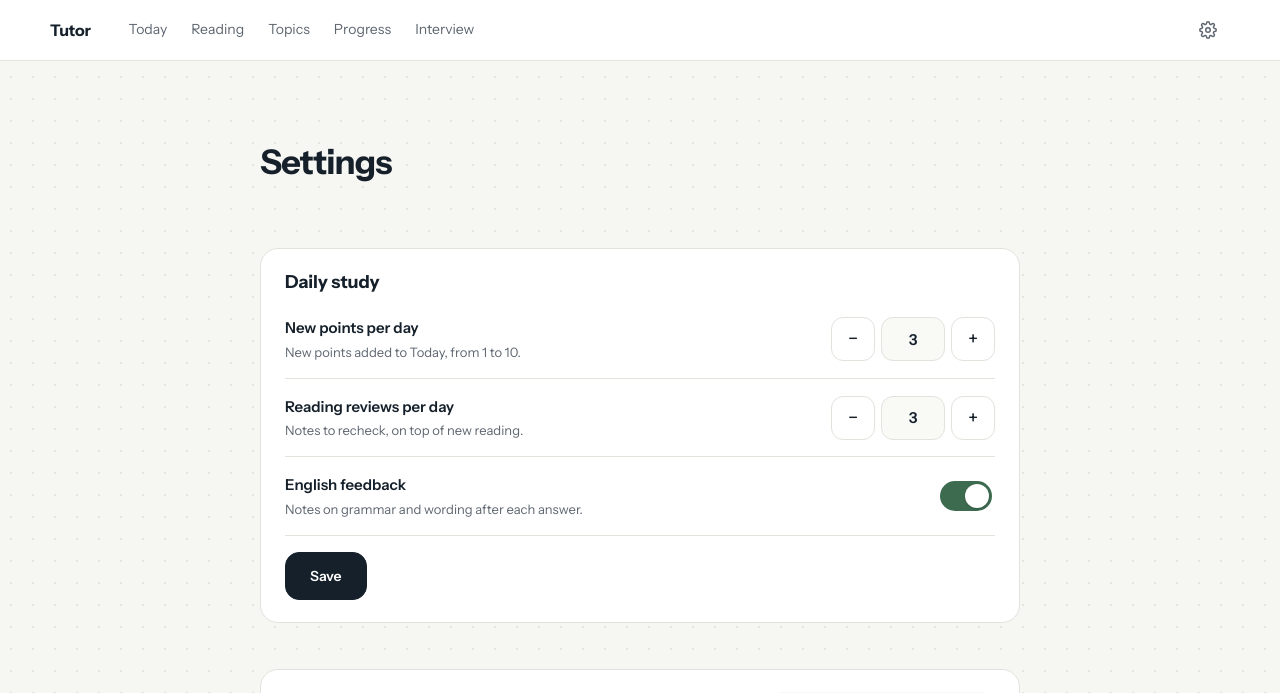
Scenario: settings toggles english feedback
Click the checkbox labelled "English feedback" at coordinates (966, 496), box left=940, top=481, right=992, bottom=511
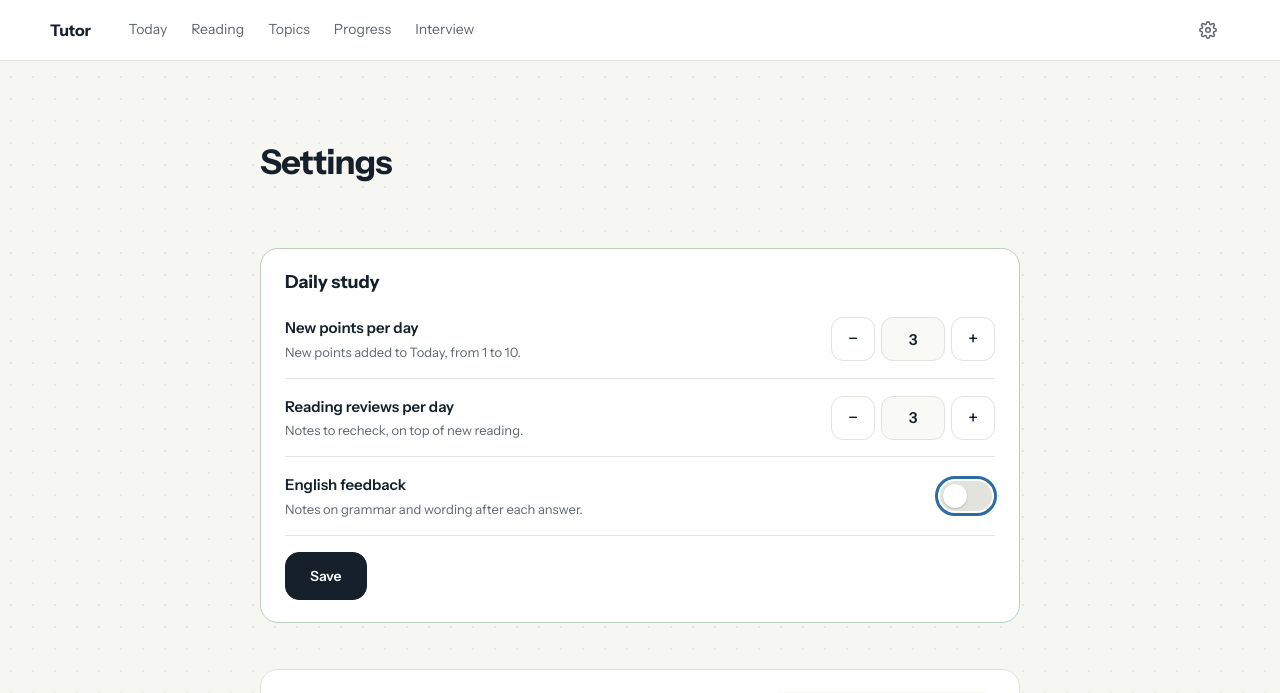
Click the button "Save" at coordinates (326, 576), box left=285, top=552, right=367, bottom=600
(page scrolled)
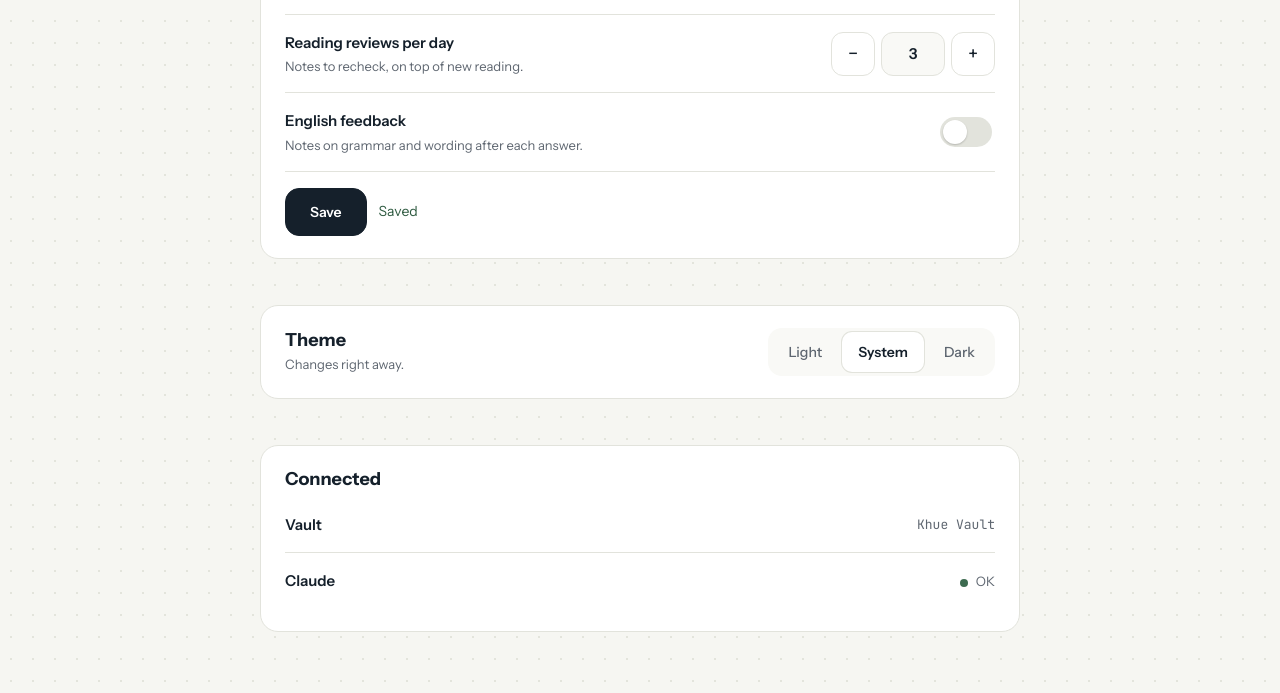
Expected: the text "OK" is shown, left=960, top=571, right=995, bottom=591
Expected: the text "Saved" is shown, left=379, top=201, right=418, bottom=222
